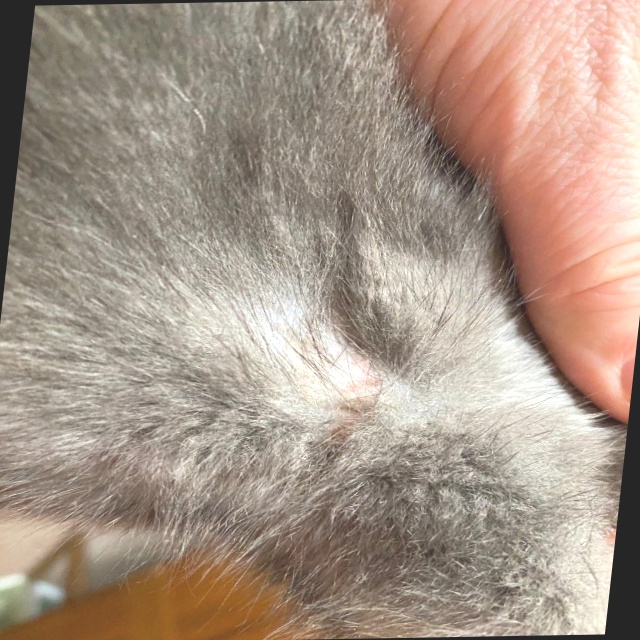hairloss: (293, 321, 401, 445)
